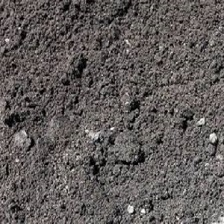sandy_soil: (6, 17, 217, 205)
